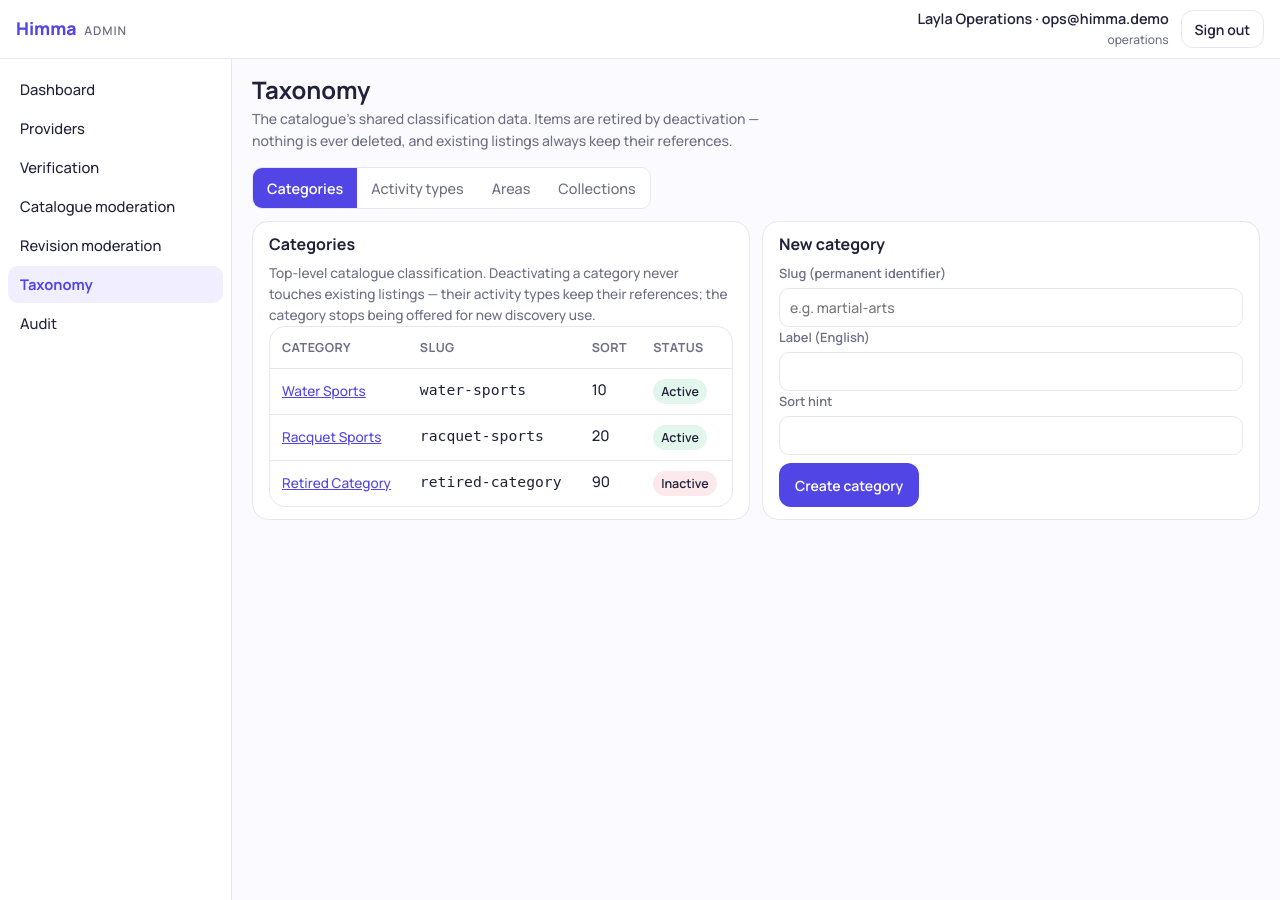
Test case: creation and editing (certified mutable fields only) › editing exposes NO slug input — the stable identifier is explicitly immutable
The image size is (1280, 900).
Step 1. Click the button "Water Sports" → point(324, 391), box [282, 379, 366, 403]
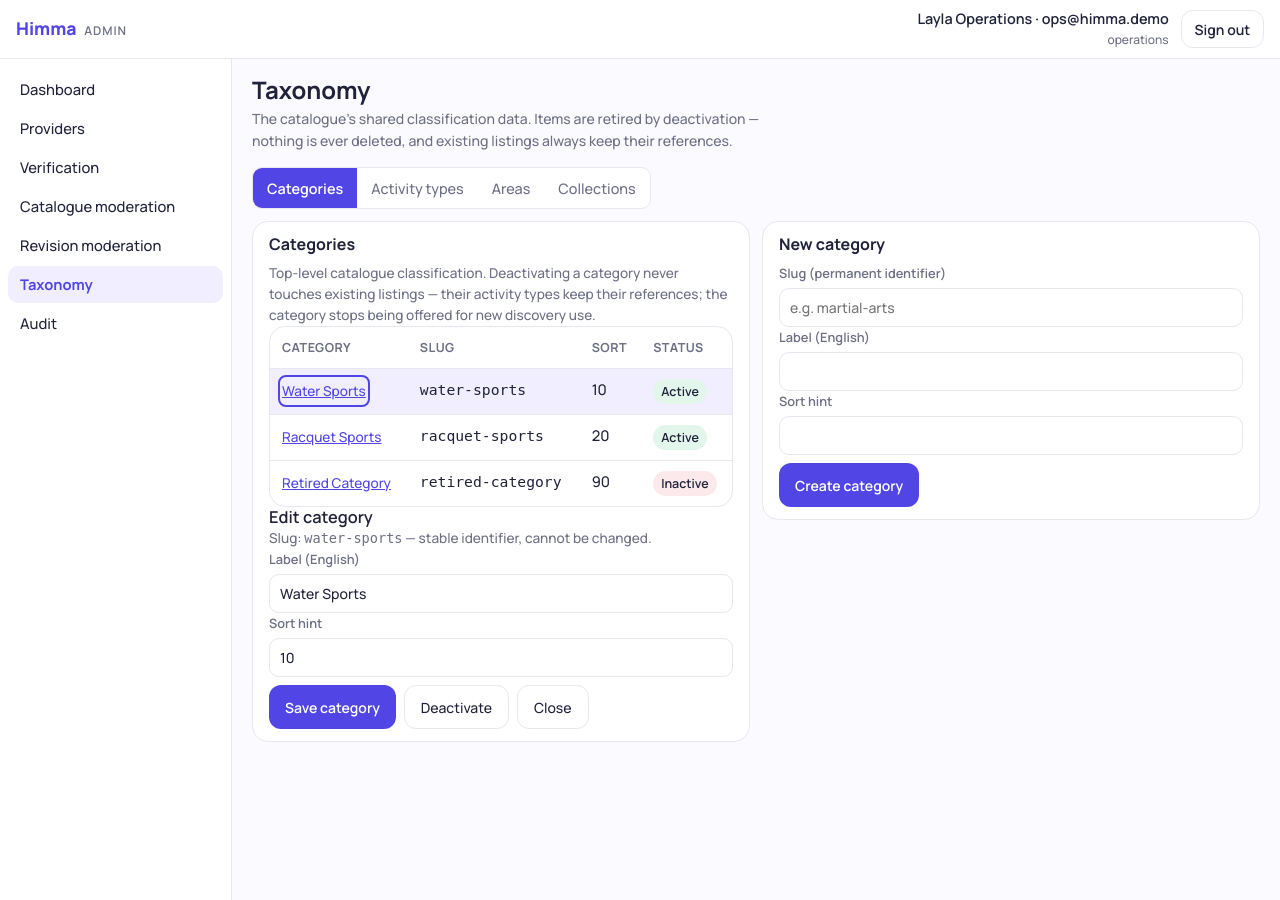
Expected: the text "Slug: water-sports — stable identifier, cannot be changed." is shown, [269, 529, 652, 547]
Step 2. Replace the text in the field labelled "Label (English)" below "Slug:" with "Water & Beach Sports" → point(501, 594), box [269, 574, 733, 613]
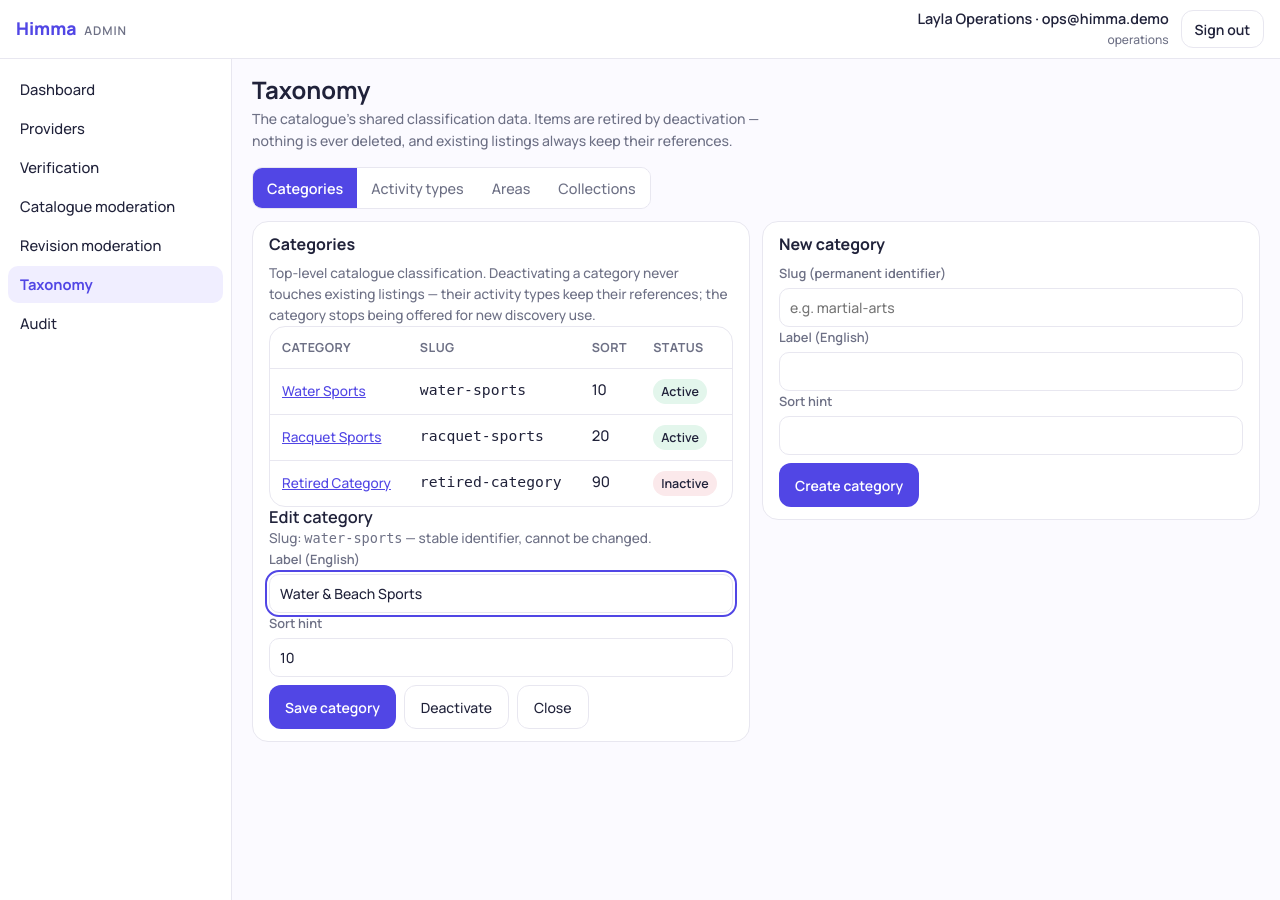
Step 3. Click the button "Save category" → point(332, 707), box [269, 685, 396, 729]
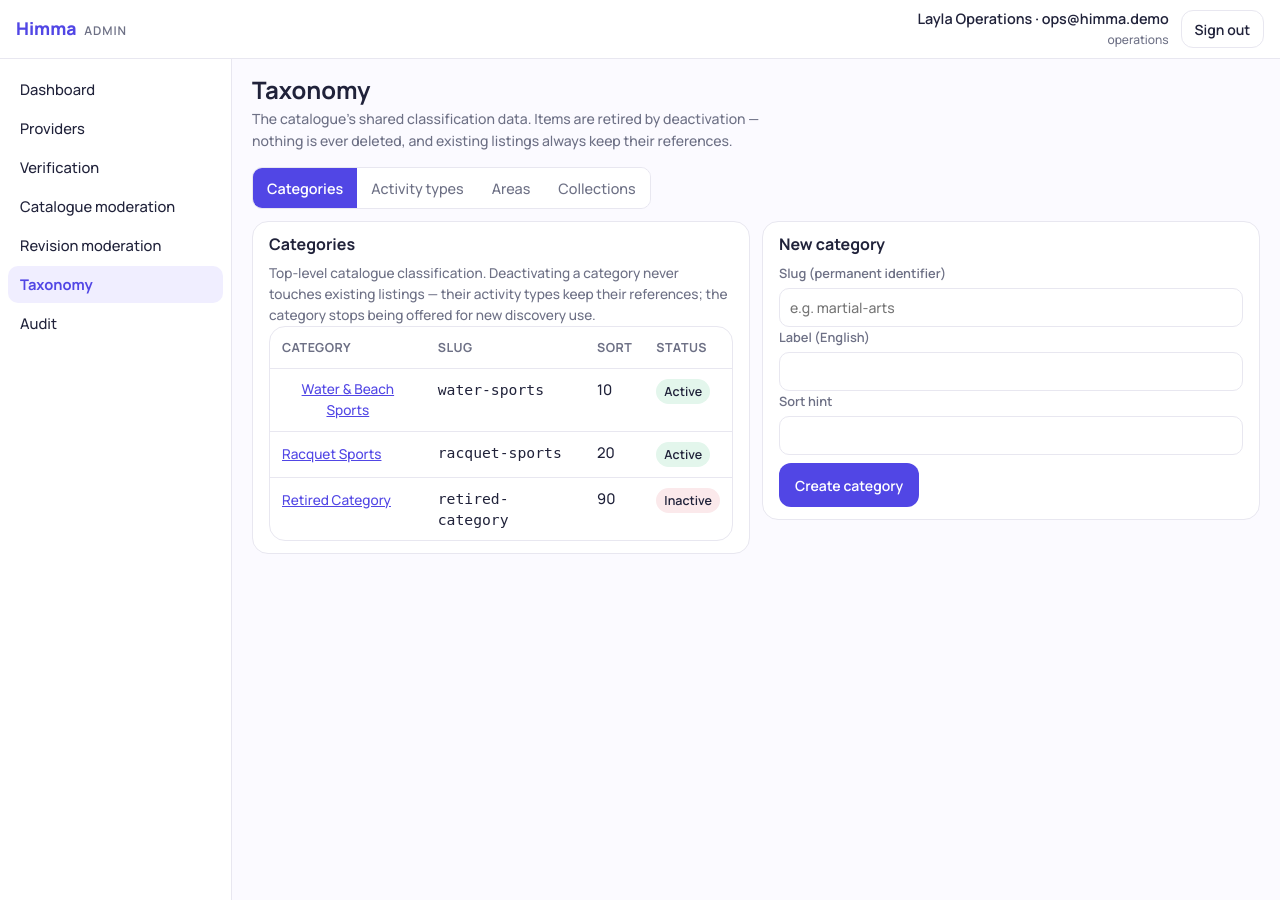
Expected: the button "Water & Beach Sports" is shown, [282, 379, 414, 421]
